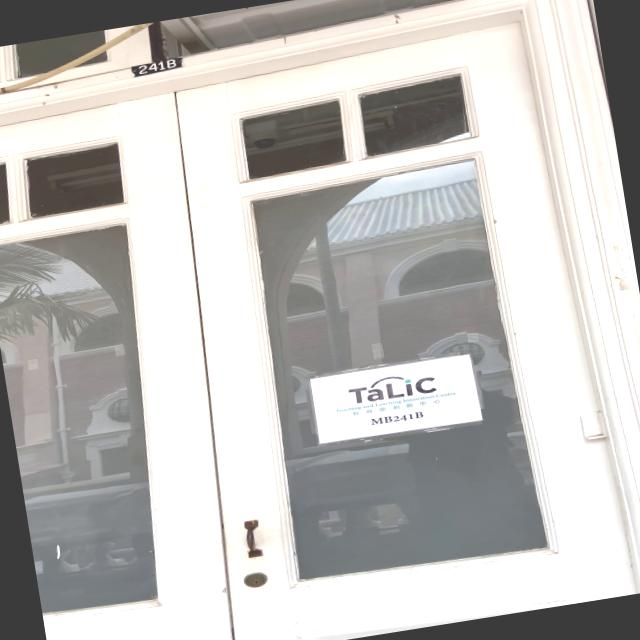room241b: (128, 56, 184, 80)
